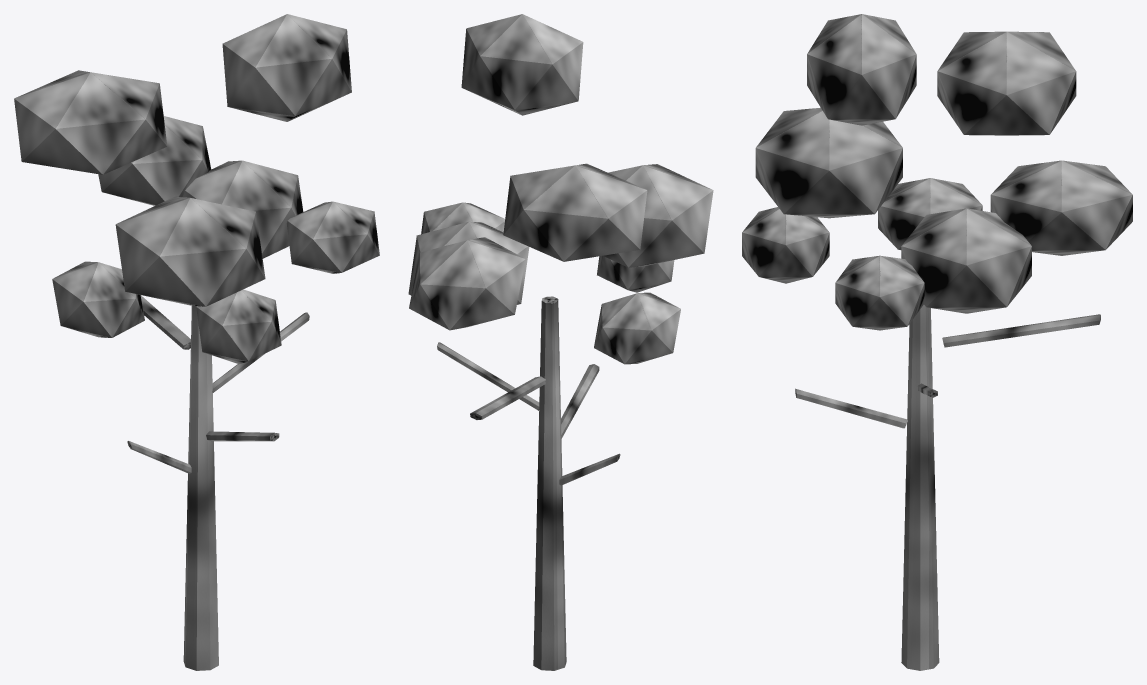
File: tree_birch_small.glb
3 views of the same model, side by side, from view 1: azimuth 30°, elevation 25°; view 2: azimuth 150°, elevation 25°; view 3: azimuth 270°, elevation 25° (orthographic). The views are drawn at different scales.
Visible parts, largest first — view 1: tree_birch_small; view 2: tree_birch_small; view 3: tree_birch_small.
Part boxes in pixels (x1,y1,x2,y2): tree_birch_small: [14, 14, 379, 670]; tree_birch_small: [408, 14, 713, 670]; tree_birch_small: [742, 14, 1132, 670].
Size of the model in its own units: 2.21 by 4.75 by 2.48.
1 material, 1 textured.
